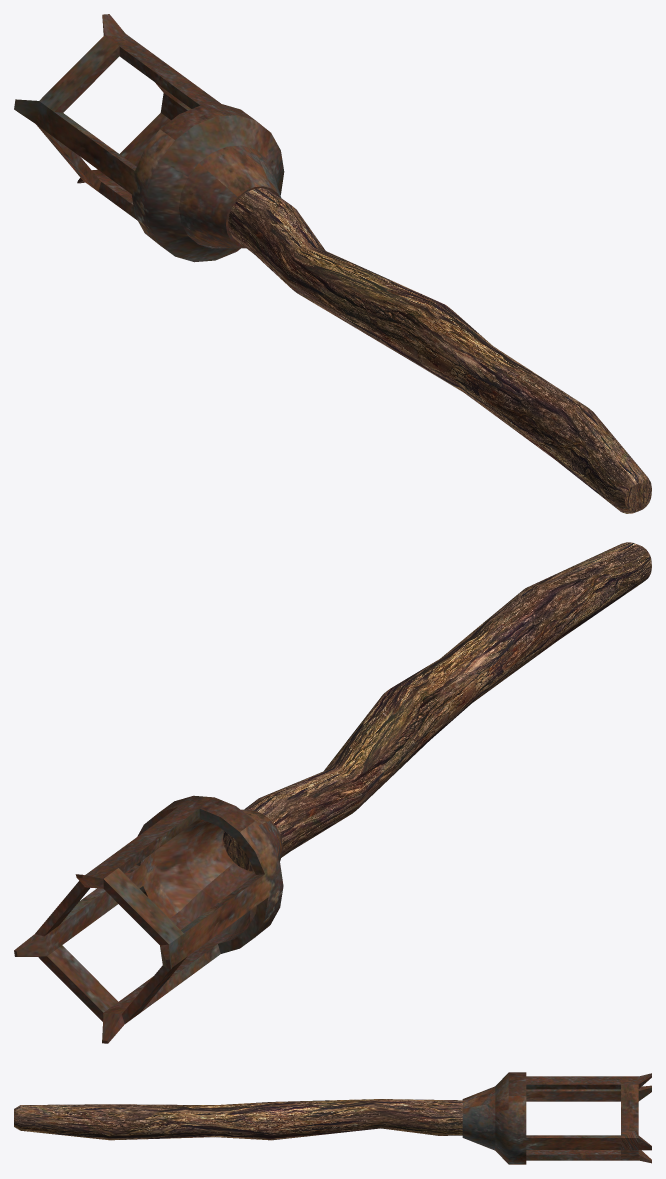
File: TORCH_01.fbx
The picture shows the model from 3 angles, top to bottom: view 1: azimuth 30°, elevation 25°; view 2: azimuth 150°, elevation 25°; view 3: azimuth 270°, elevation 25°; orthographic projection. The views are drawn at different scales.
Visible parts, largest first — view 1: Torch1:pCylinder3, Torch1:pPipe1; view 2: Torch1:pPipe1, Torch1:pCylinder3; view 3: Torch1:pCylinder3, Torch1:pPipe1.
Part boxes in pixels (left/top/right/bottom): Torch1:pCylinder3: left=228, top=188, right=651, bottom=513; Torch1:pPipe1: left=14, top=14, right=284, bottom=262; Torch1:pPipe1: left=14, top=795, right=283, bottom=1043; Torch1:pCylinder3: left=223, top=542, right=651, bottom=871; Torch1:pCylinder3: left=14, top=1099, right=462, bottom=1140; Torch1:pPipe1: left=462, top=1072, right=651, bottom=1164.
Bounding box in the file's own units: 0.1002 × 0.0998 × 0.6027.
2 materials, 2 textured.
